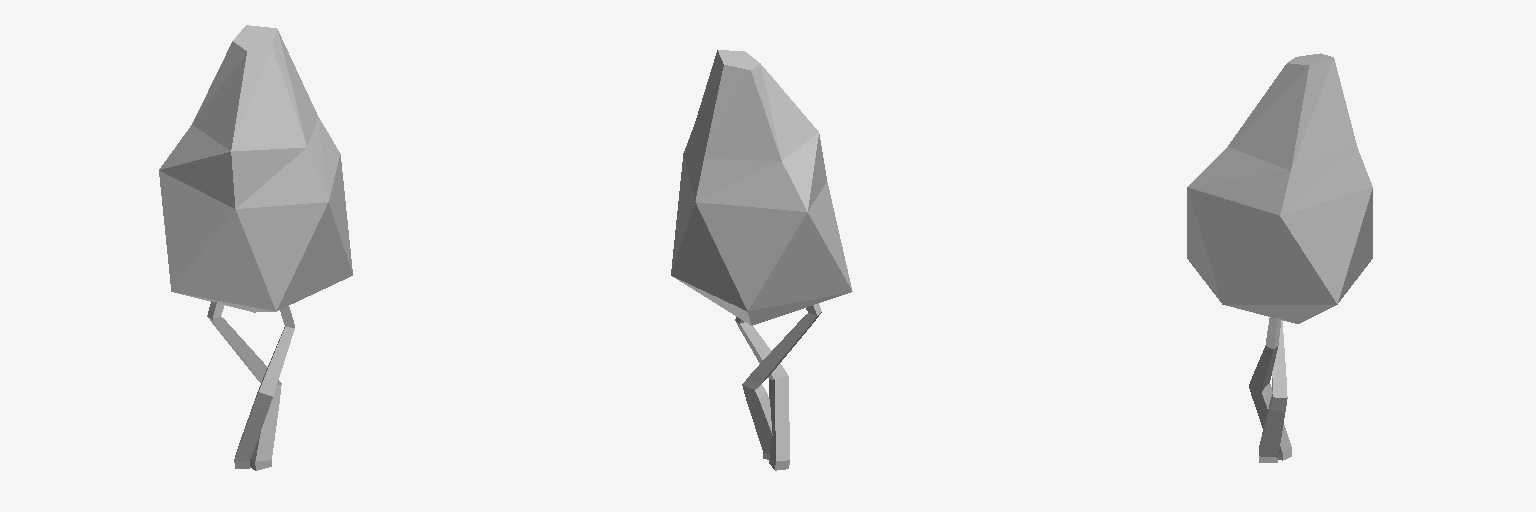
File: Tree6.obj
3 renders of one model, left to right at view 1: azimuth 30°, elevation 25°; view 2: azimuth 150°, elevation 25°; view 3: azimuth 270°, elevation 25°, orthographic.
Visible parts, largest first — view 1: Icosphere.031, Cube.007, Cube.008; view 2: Icosphere.031, Cube.007, Cube.008; view 3: Icosphere.031, Cube.007, Cube.008.
Boxes of the visible parts, x1=… form: Icosphere.031: x1=159, y1=25, x2=352, y2=312; Cube.007: x1=207, y1=301, x2=281, y2=470; Cube.008: x1=234, y1=306, x2=294, y2=468; Icosphere.031: x1=671, y1=50, x2=852, y2=325; Cube.007: x1=742, y1=303, x2=821, y2=459; Cube.008: x1=735, y1=317, x2=789, y2=470; Icosphere.031: x1=1187, y1=53, x2=1372, y2=323; Cube.007: x1=1259, y1=320, x2=1287, y2=462; Cube.008: x1=1249, y1=317, x2=1291, y2=460.
Bounding box in the file's own units: 1.79 × 4.2 × 1.7.